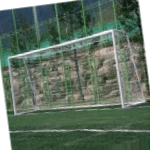goals: (6, 28, 147, 114)
